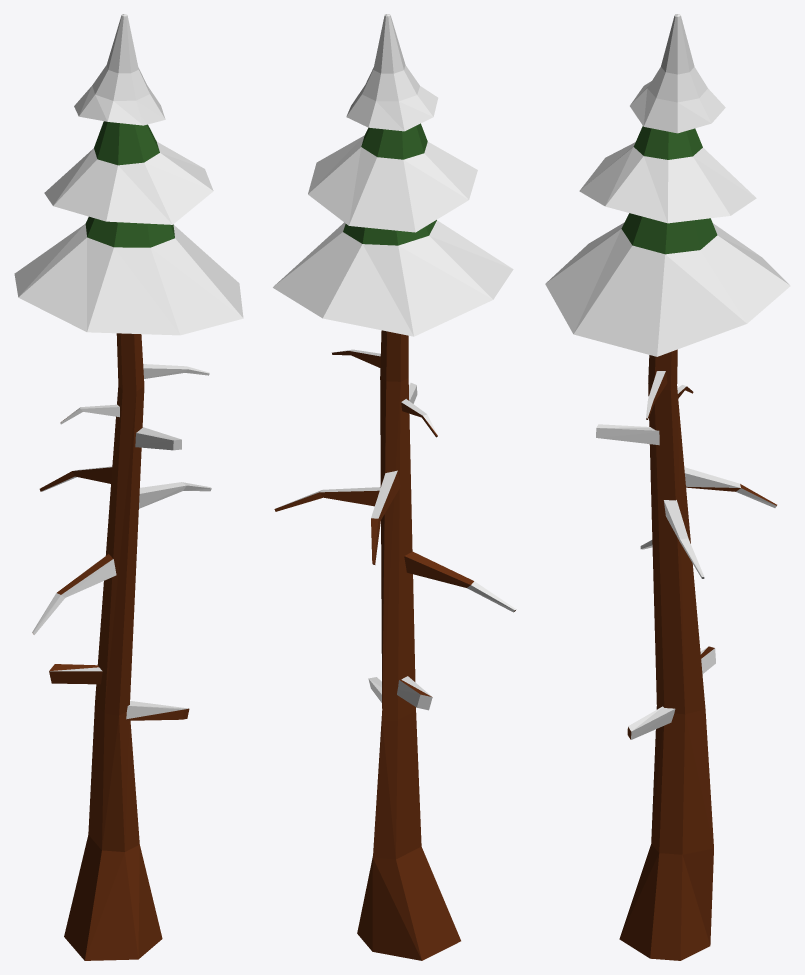
Rendered from snowTree2.glb.
3 views of the same model, side by side, from view 1: azimuth 30°, elevation 25°; view 2: azimuth 150°, elevation 25°; view 3: azimuth 270°, elevation 25° (orthographic).
Parts seen in each view (by area): view 1: Tree_temp_climate_020; view 2: Tree_temp_climate_020; view 3: Tree_temp_climate_020.
Part boxes in pixels (x1,y1,x2,y2): Tree_temp_climate_020: [14, 14, 243, 960]; Tree_temp_climate_020: [273, 14, 516, 960]; Tree_temp_climate_020: [545, 14, 790, 960].
Bounding box in the file's own units: 1.88 × 7.72 × 1.84.
2 materials, 1 textured.
